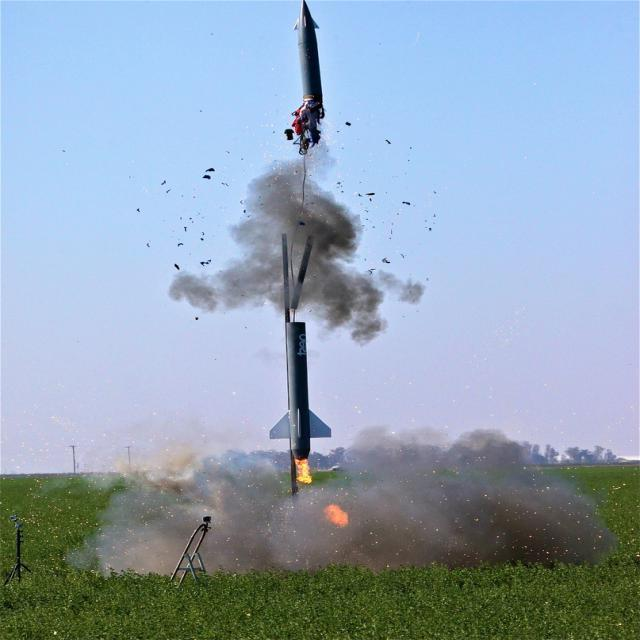missile: (281, 0, 338, 151)
